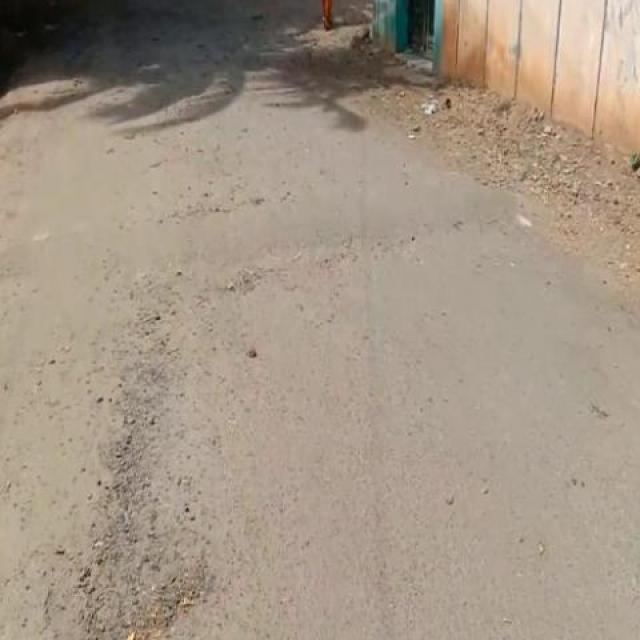Unmarked Bump: (0, 178, 511, 278)
